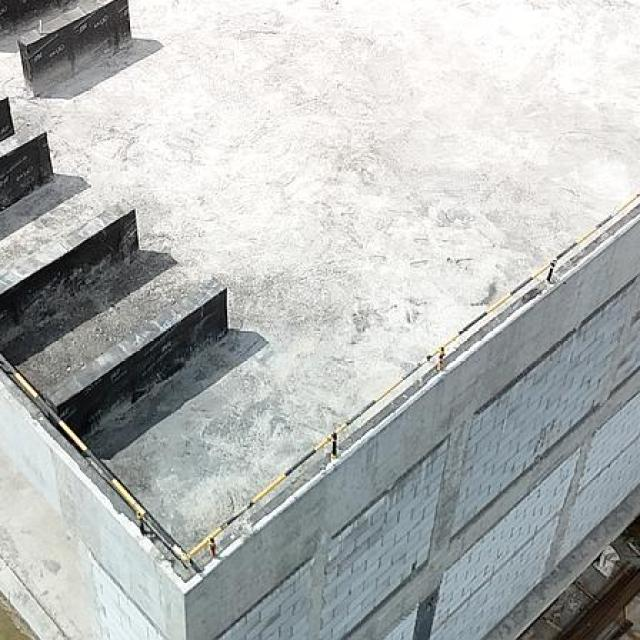edge_guardrail: (0, 189, 640, 565)
